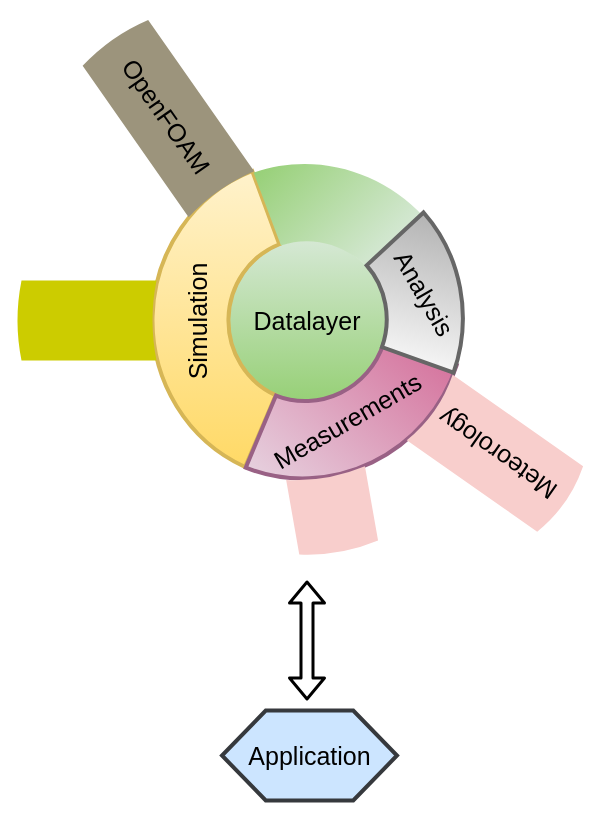
Image size: 605x820. Some labels were removed from this diagram. Here are the shapes that lost their labels. From the top down, the box of each, then its label:
(17, 280, 156, 360): LSM
(286, 466, 378, 558): GIS
